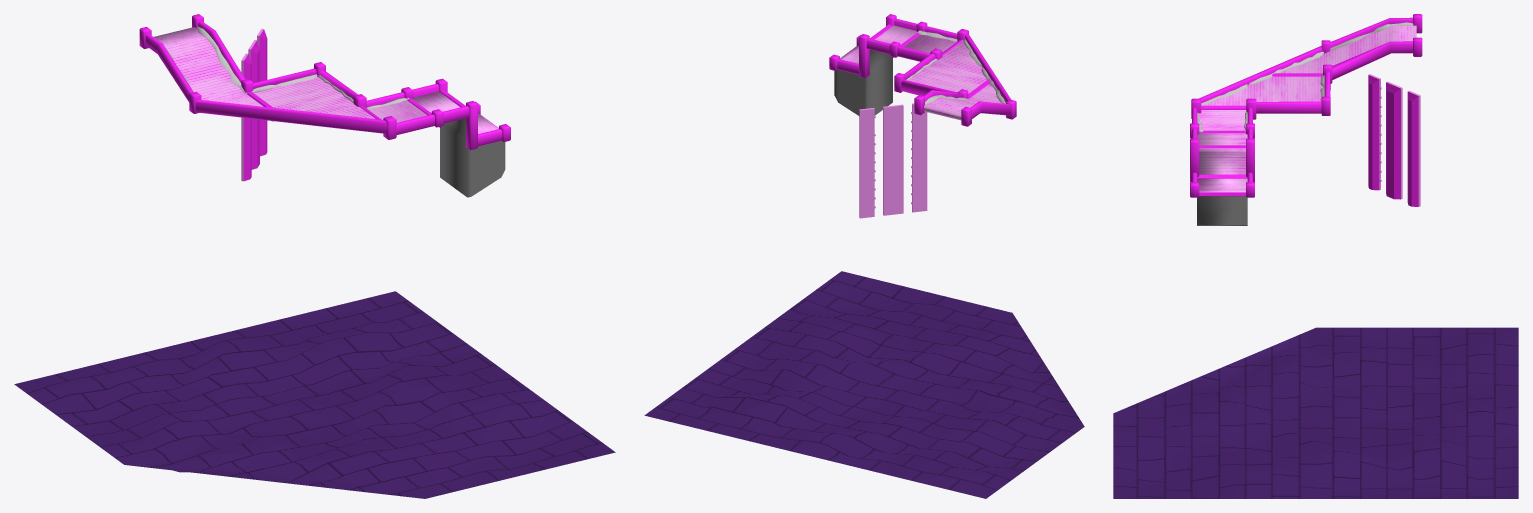
Rendered from Winter_updates.fbx.
The picture shows the model from 3 angles, left to right: view 1: azimuth 30°, elevation 25°; view 2: azimuth 150°, elevation 25°; view 3: azimuth 270°, elevation 25°; orthographic projection. The views are drawn at different scales.
Visible parts, largest first — view 1: Snow, Winter_floor, Winter_moving_platform_base; view 2: Snow, Winter_floor, Winter_moving_platform_base; view 3: Snow, Winter_floor, Winter_moving_platform_base.
Part boxes in pixels (x1,y1,x2,y2): Snow: (14, 291, 615, 498); Winter_floor: (139, 14, 510, 197); Winter_moving_platform_base: (241, 28, 267, 181); Snow: (644, 271, 1084, 498); Winter_floor: (829, 14, 1016, 126); Winter_moving_platform_base: (859, 103, 927, 218); Snow: (1113, 327, 1518, 498); Winter_floor: (1190, 14, 1422, 225); Winter_moving_platform_base: (1368, 74, 1420, 206).
Bounding box in the file's own units: 1562 × 1501 × 1562.
